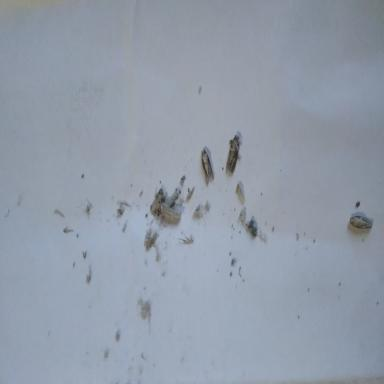pbw: (226, 134, 240, 174), (201, 148, 214, 183), (350, 216, 372, 230)
